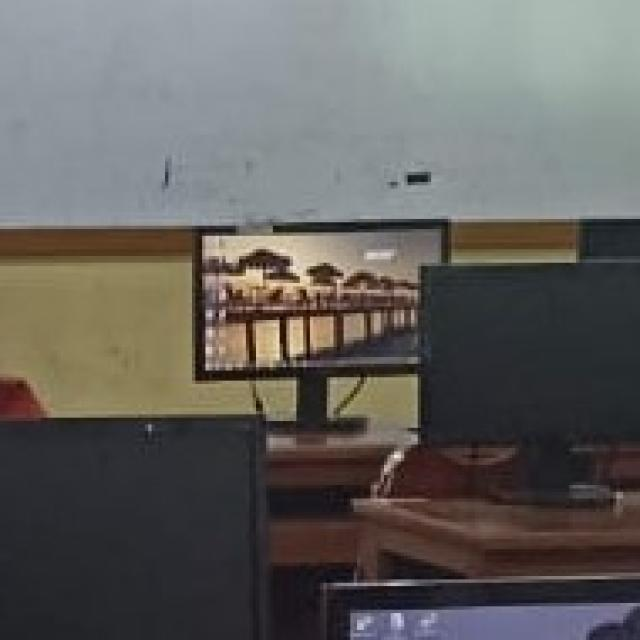offscreen: (0, 419, 257, 640), (425, 264, 640, 442)
onscreen: (197, 224, 443, 378)
